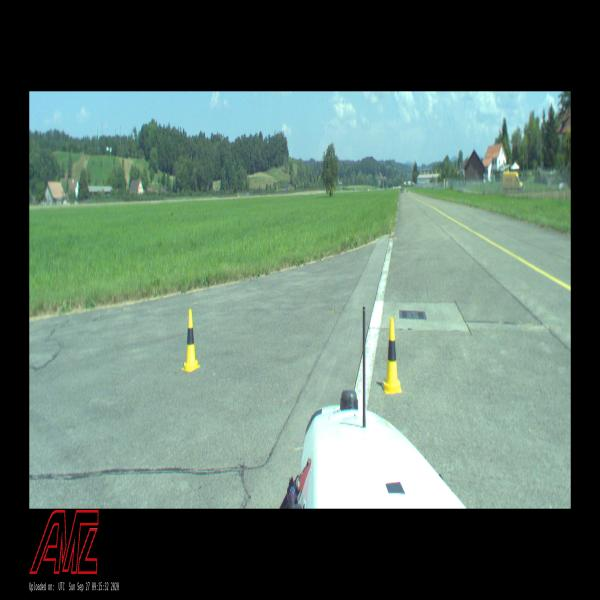yellow_cone: (381, 318, 402, 393), (182, 310, 200, 372)
